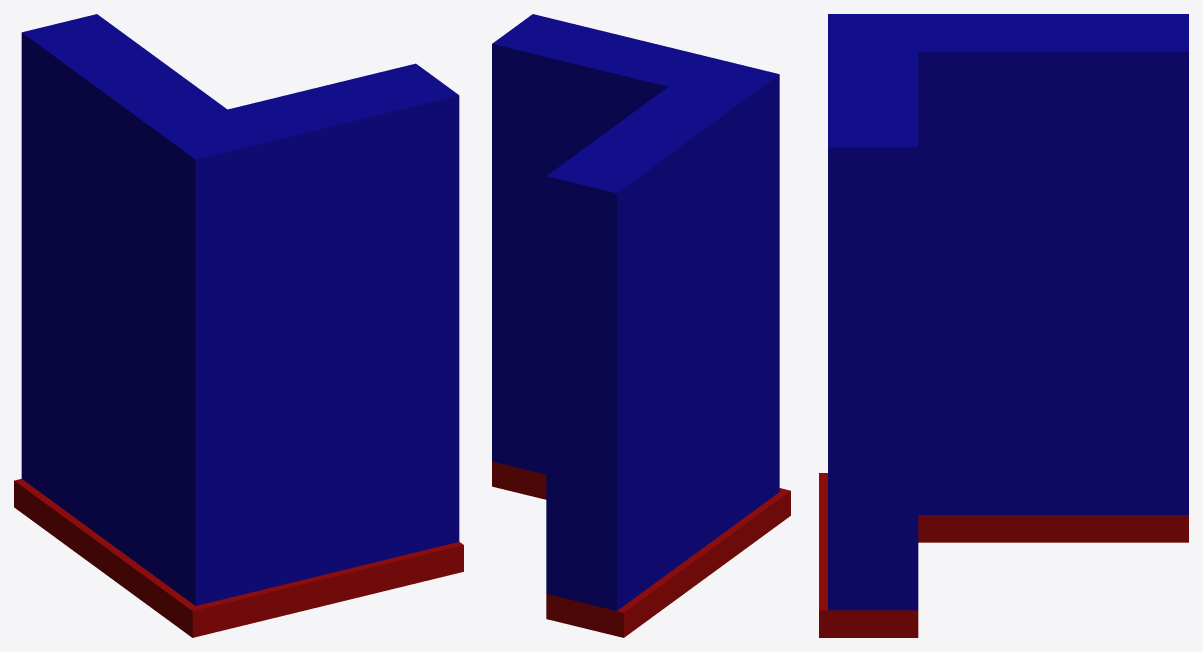
Rendered from Wall1.FBX.
3 renders of one model, left to right at view 1: azimuth 30°, elevation 25°; view 2: azimuth 150°, elevation 25°; view 3: azimuth 270°, elevation 25°, orthographic. The views are drawn at different scales.
Visible parts, largest first — view 1: Wall1; view 2: Wall1; view 3: Wall1.
Boxes of the visible parts, x1,y1,x2,y2 form: Wall1: (14, 14, 463, 637); Wall1: (492, 14, 790, 637); Wall1: (819, 14, 1188, 637).
Size of the model in its own units: 180 by 205 by 300.
